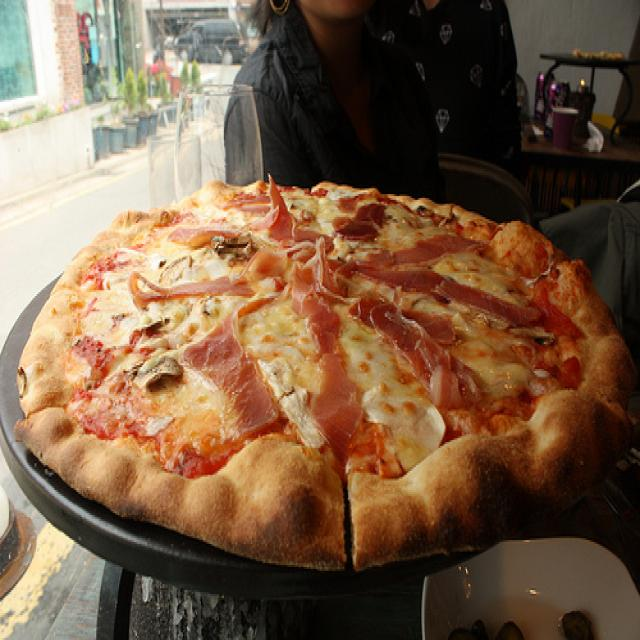Wet Waste: (10, 172, 640, 574)
